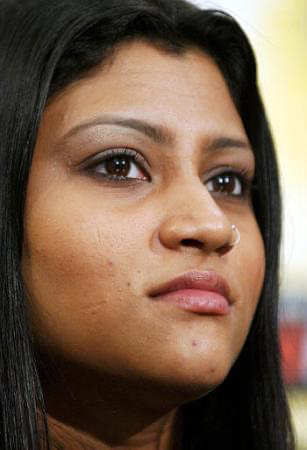Face: (37, 89, 279, 402)
